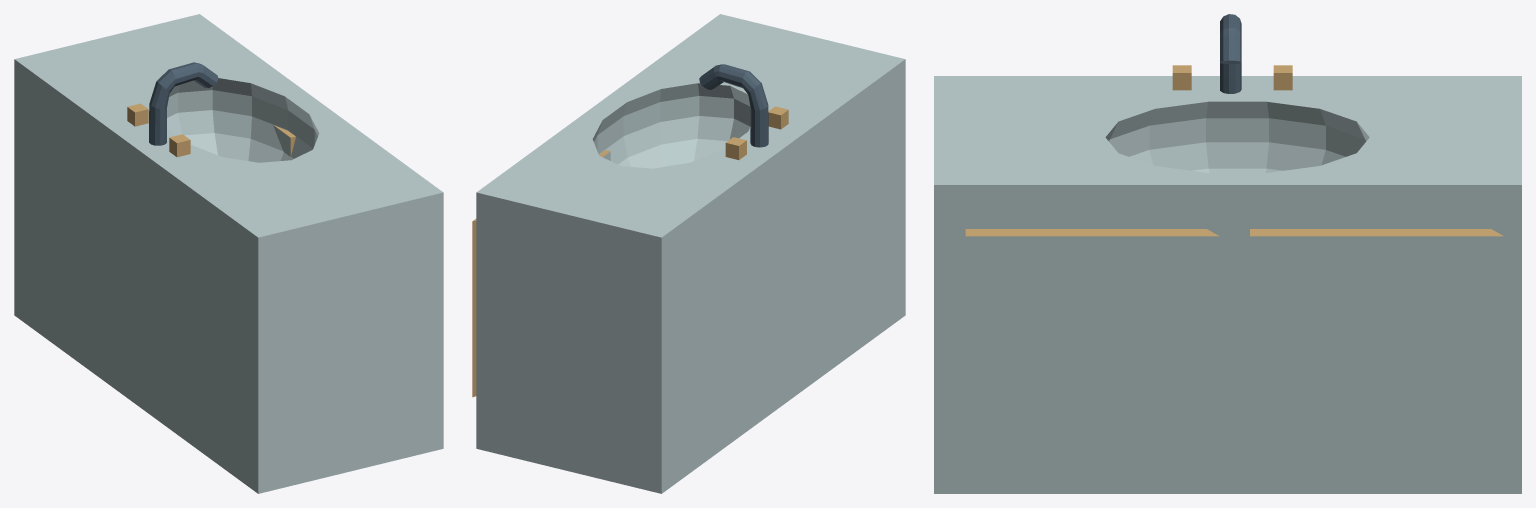
Rendered from sink2.dae.
3 views of the same model, side by side, from view 1: azimuth 30°, elevation 25°; view 2: azimuth 150°, elevation 25°; view 3: azimuth 270°, elevation 25° (orthographic). The views are drawn at different scales.
Parts seen in each view (by area): view 1: Cube, Cylinder; view 2: Cube, Cylinder; view 3: Cube, Cylinder.
Boxes of the visible parts, x1,y1,x2,y2 form: Cube: [14, 14, 443, 493]; Cylinder: [127, 62, 295, 157]; Cube: [476, 14, 905, 493]; Cylinder: [472, 64, 788, 397]; Cube: [934, 76, 1521, 493]; Cylinder: [965, 14, 1503, 448].
Size of the model in its own units: 2.93 by 6.29 by 4.64.
